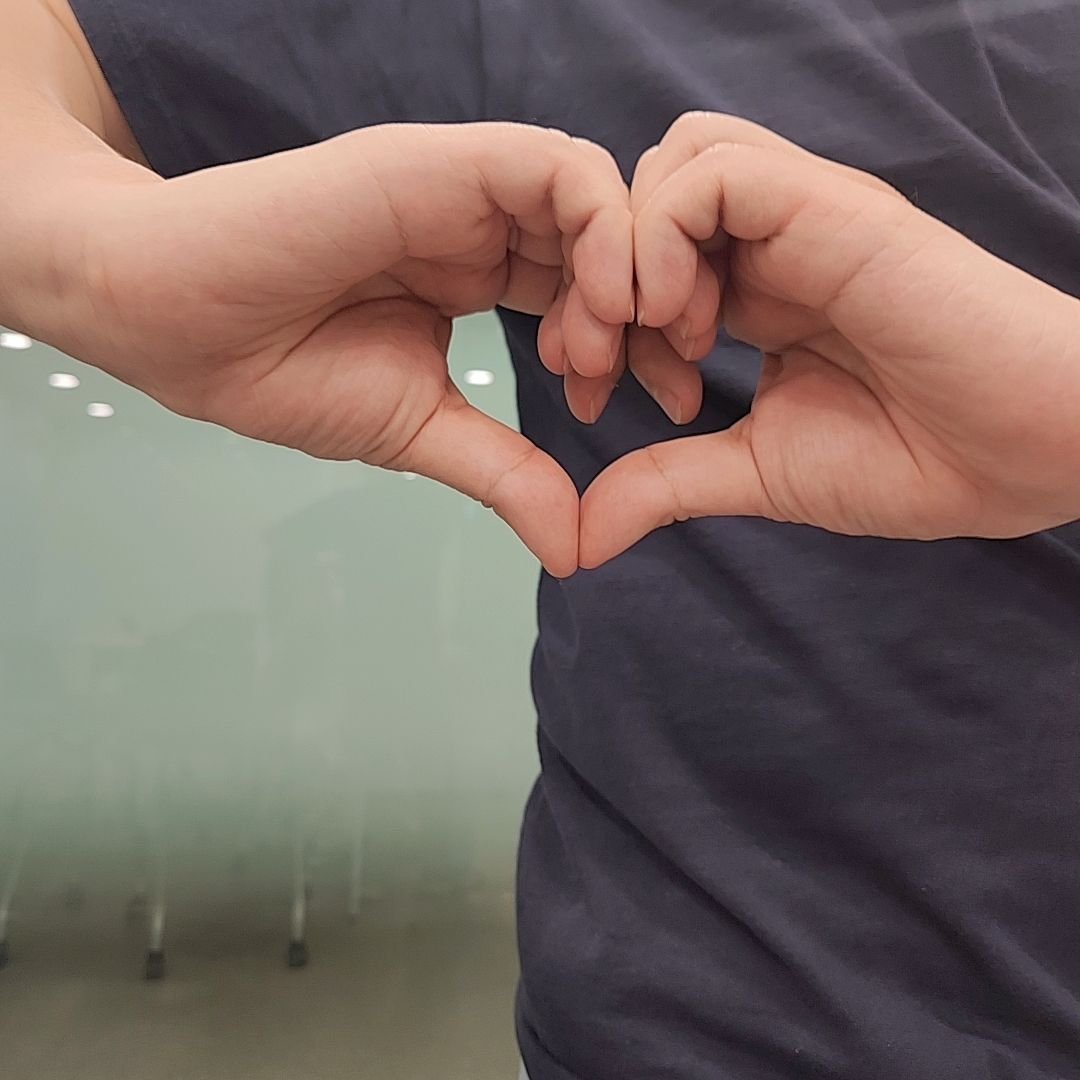heart: (172, 110, 1048, 573)
